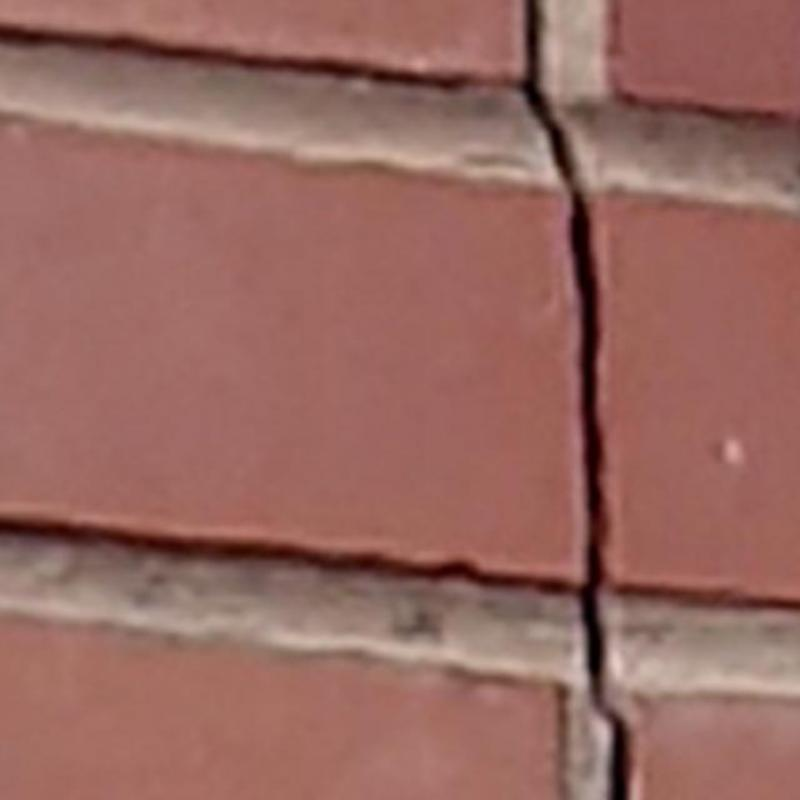crack: (523, 0, 630, 799)
